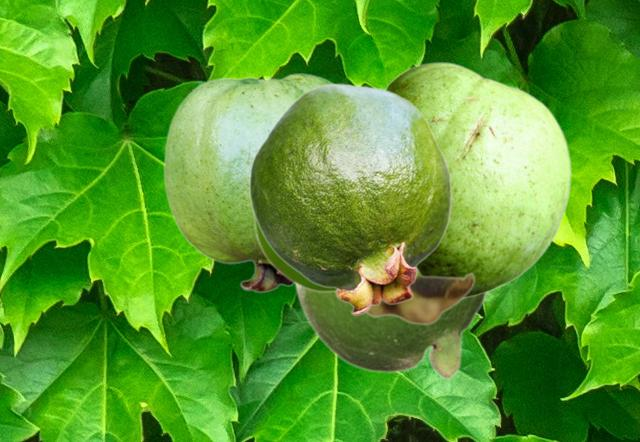guava: (248, 83, 451, 315), (385, 62, 570, 298), (163, 73, 333, 292), (252, 214, 475, 325), (294, 285, 488, 380)
